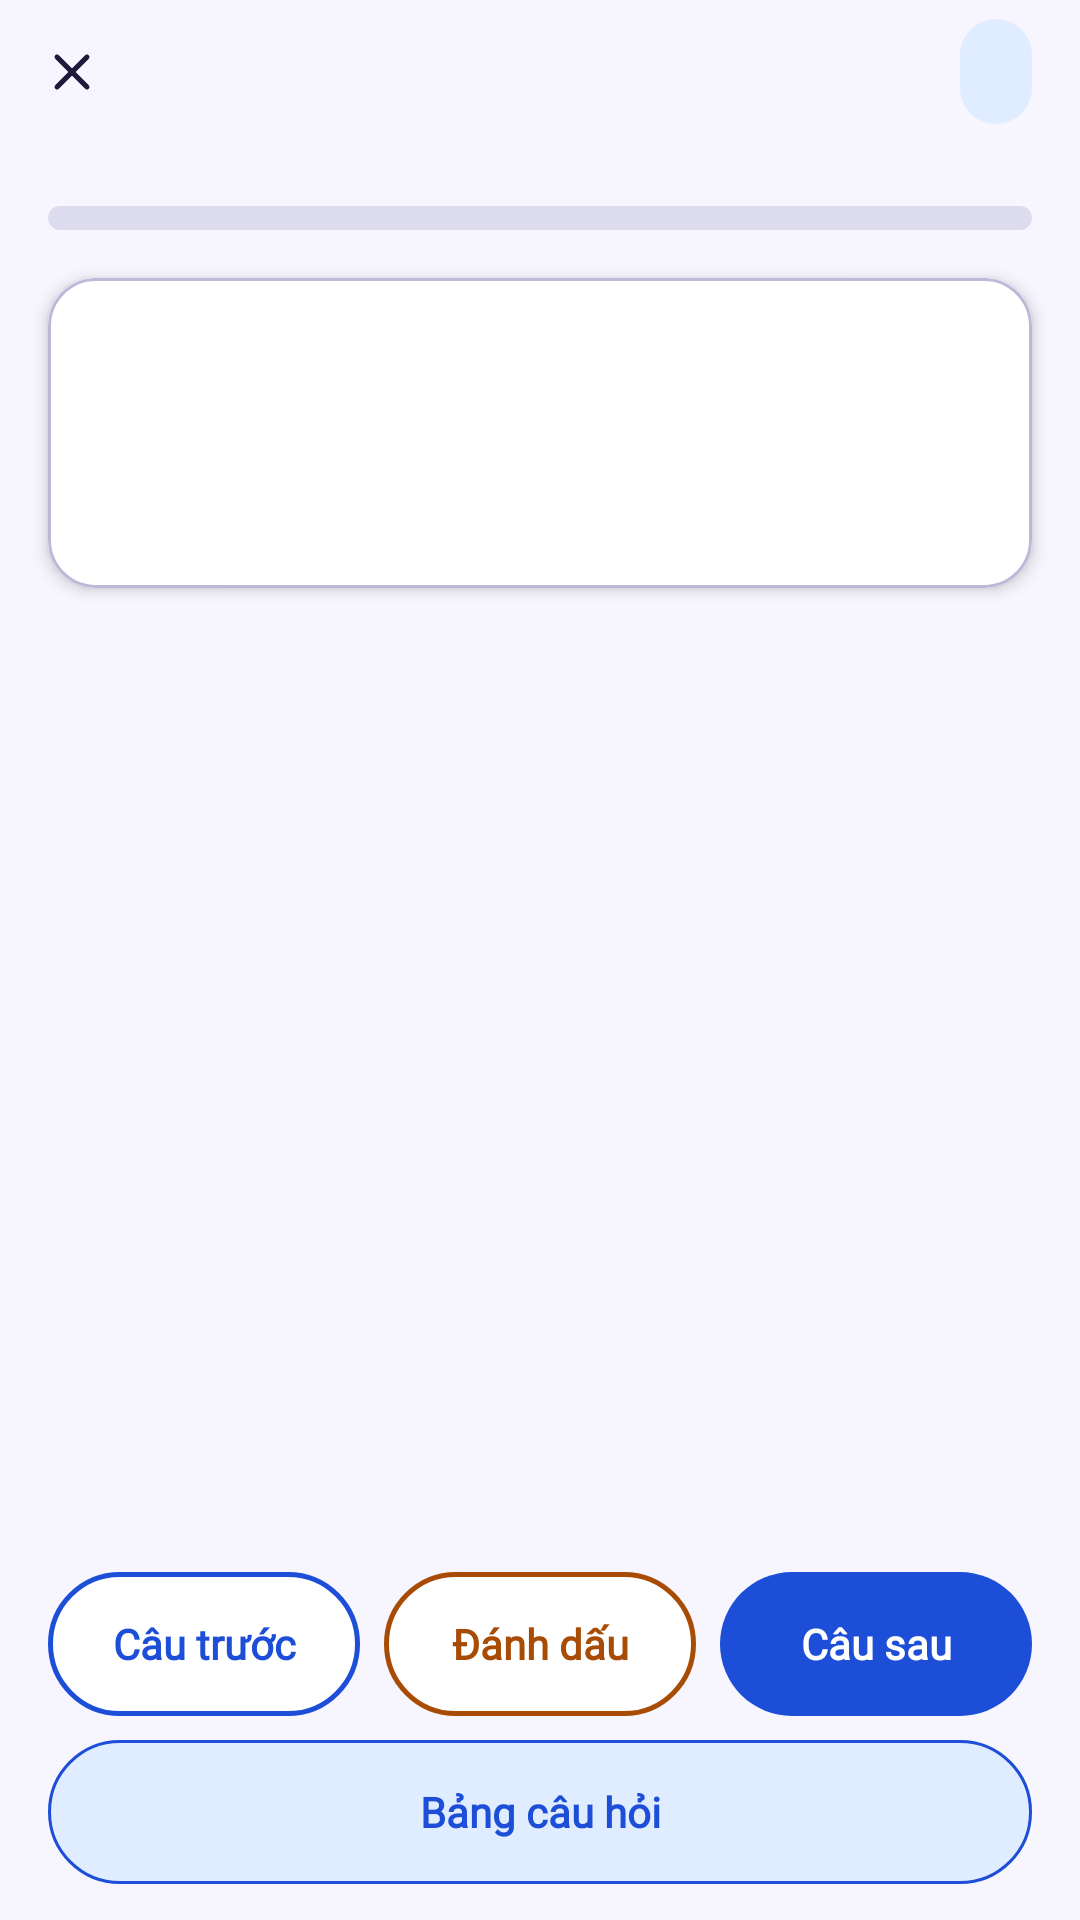

Icon bounding boxes for this 1080×1920 phone screenshot, format bbox=[x1, y1, x2, y2]:
Đóng: bbox=[54, 54, 90, 90]
